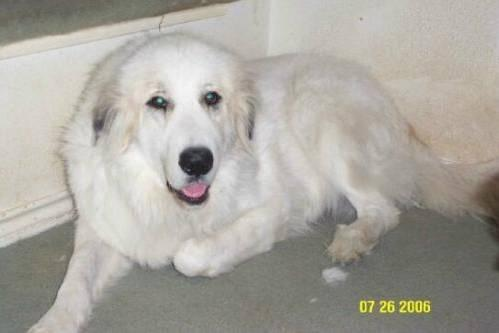dog: (28, 32, 498, 332)
